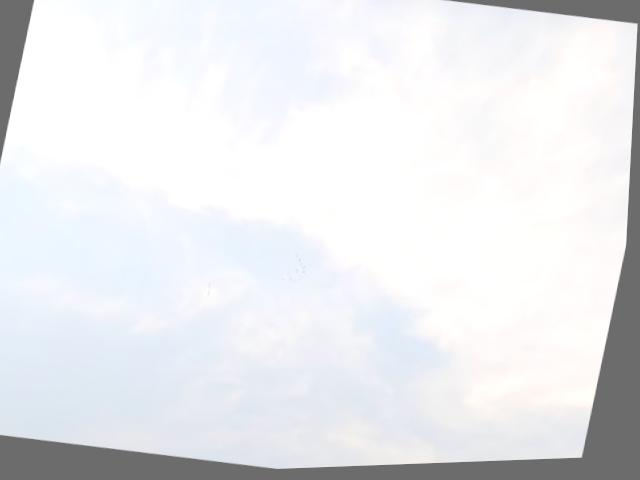iha: (206, 284, 218, 300)
